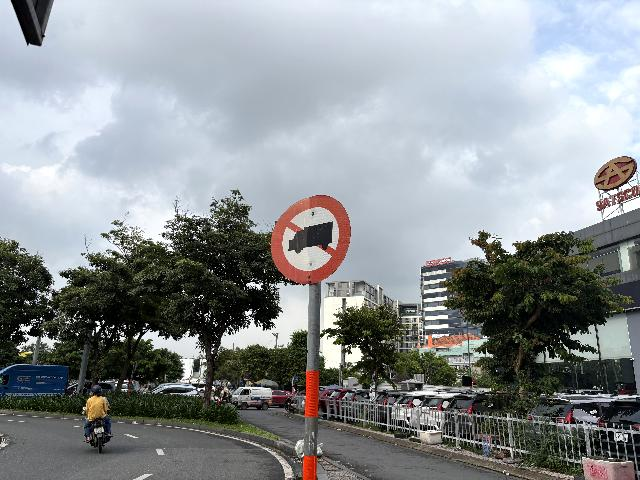cam-xe-tai: (271, 194, 351, 285)
